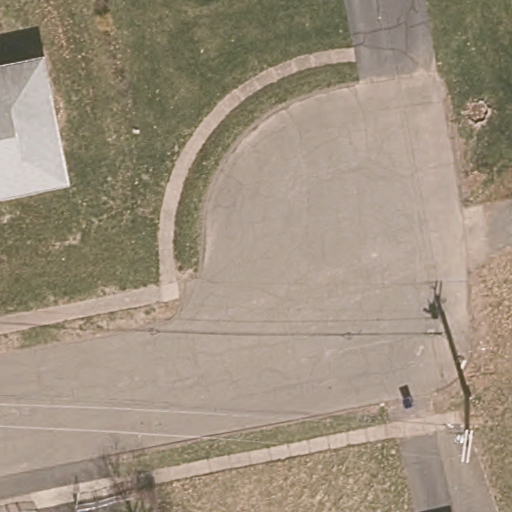DT: (455, 391, 475, 464)
